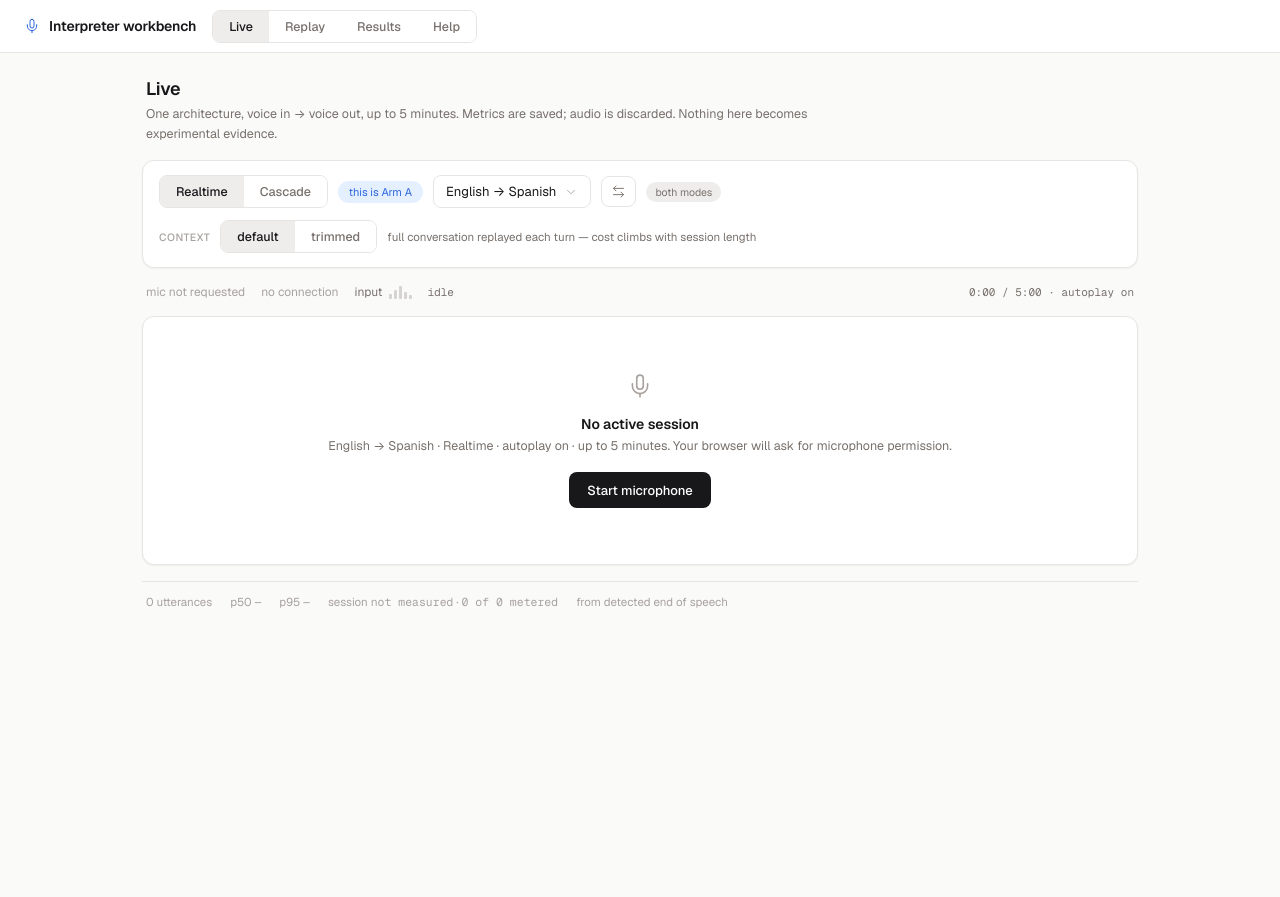
Test: ticket 020 — a failed recordings load is NOT an empty store › Live, Results and Help stay reachable with the Replay store unreadable
Step 1. Click the button "Replay" → x=305, y=26, box [269,10,341,42]
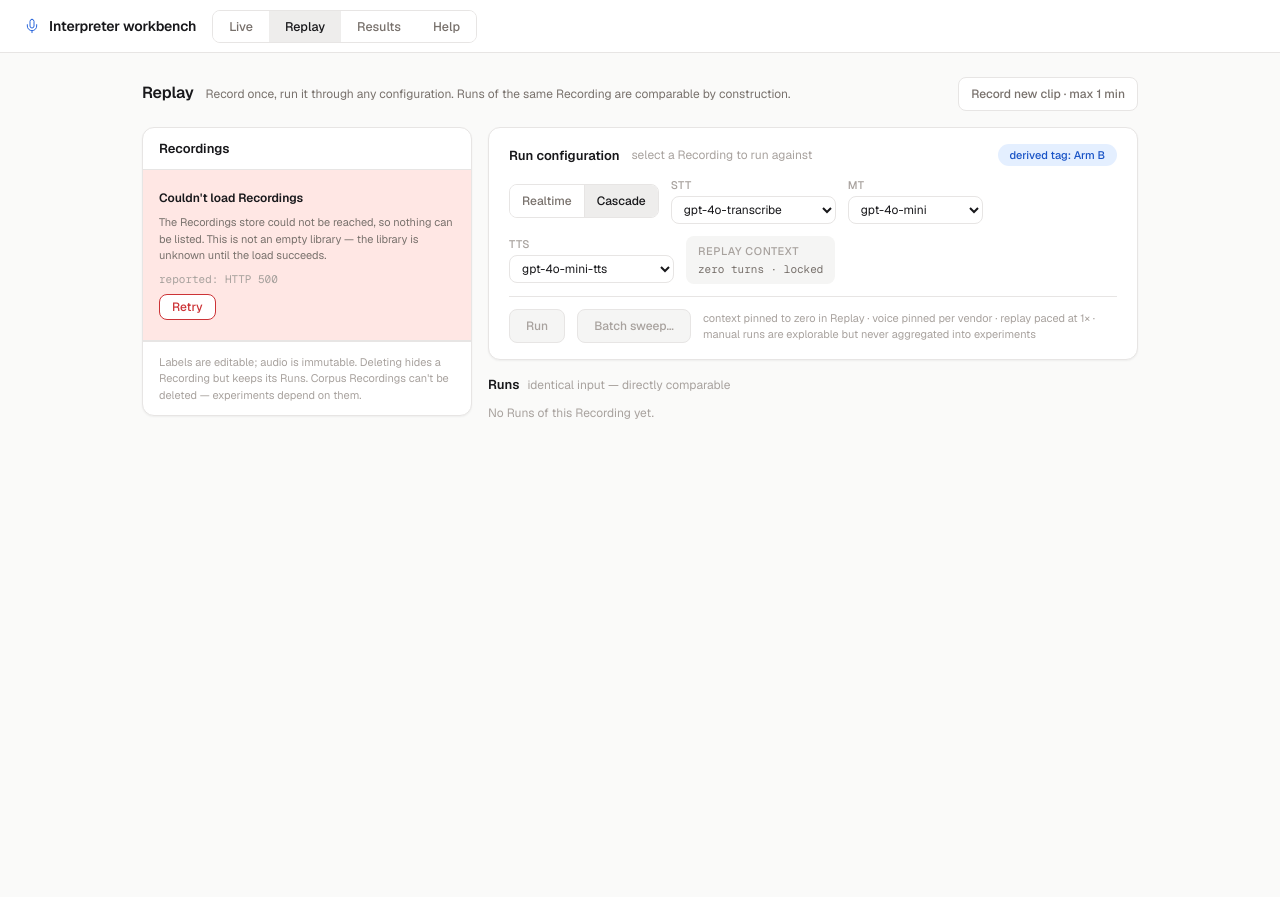
Expected: the message is shown, [143,170,471,340]
Step 2. Click the button "Results" → x=379, y=26, box [341,10,417,42]
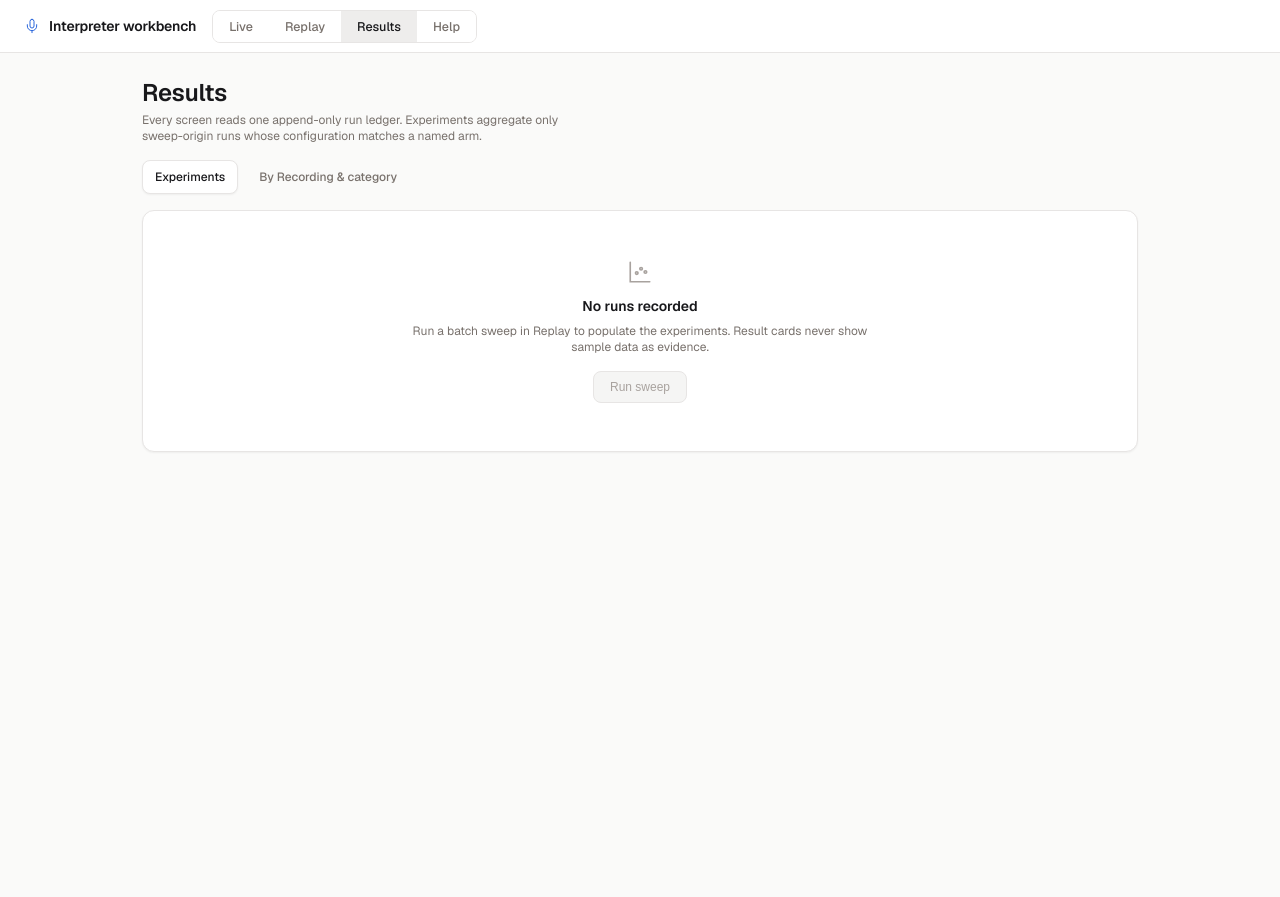
Expected: the panel is shown, [142,210,1138,452]
Step 3. Click the button "Help" → x=447, y=26, box [417,10,476,42]
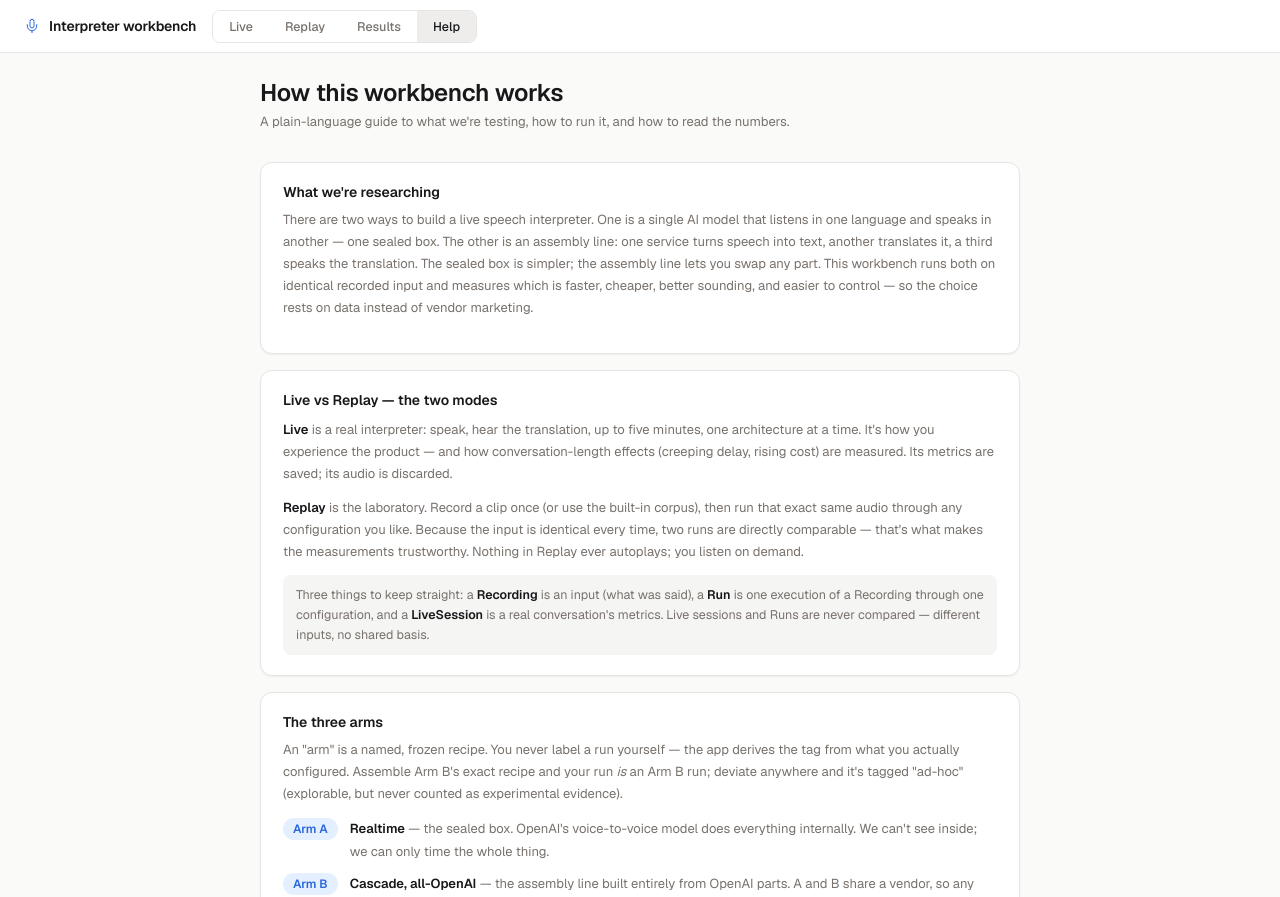
Step 4. Click the button "Live" → x=241, y=26, box [213,10,269,42]
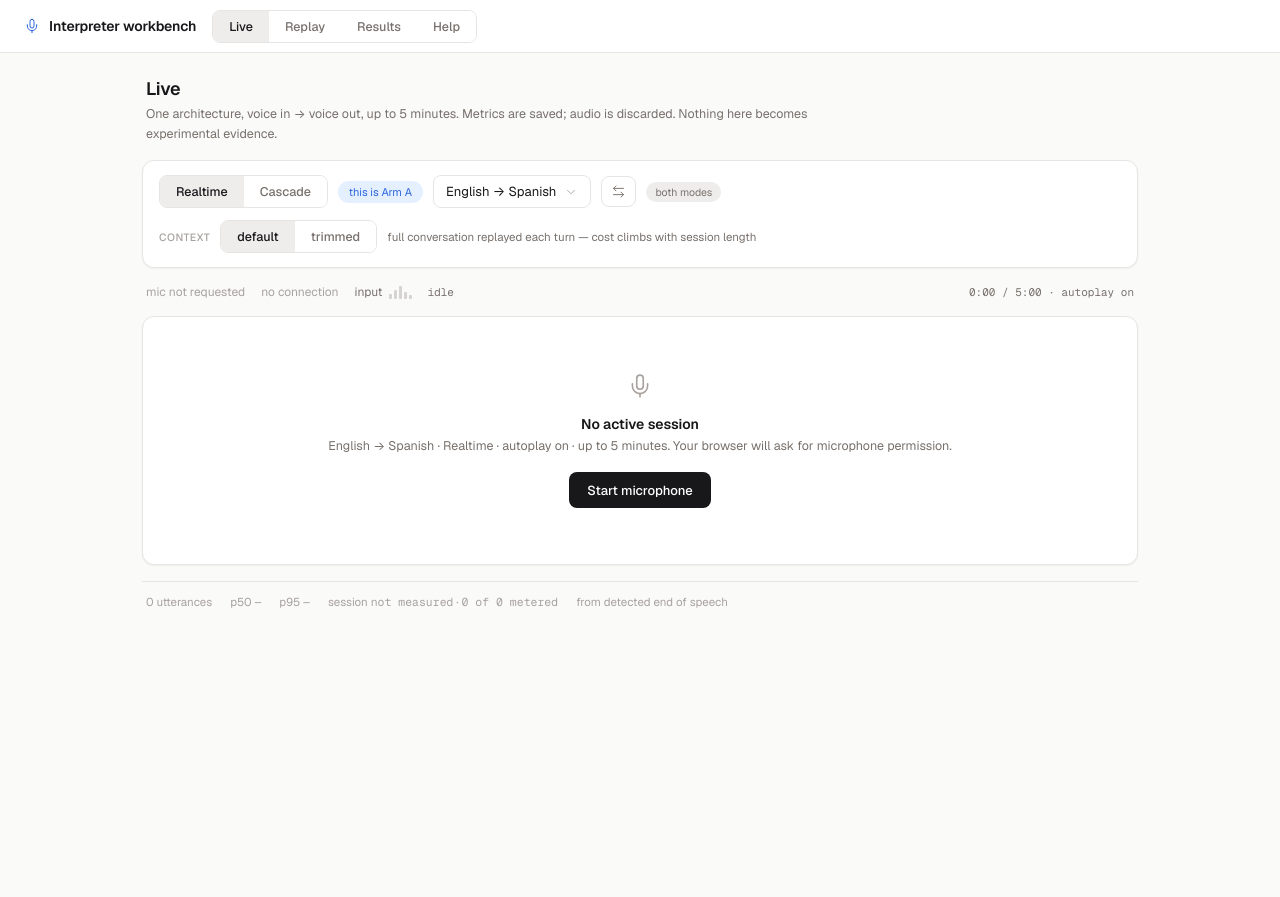
Expected: the text "mic not requested" is shown, [146,284,245,300]
